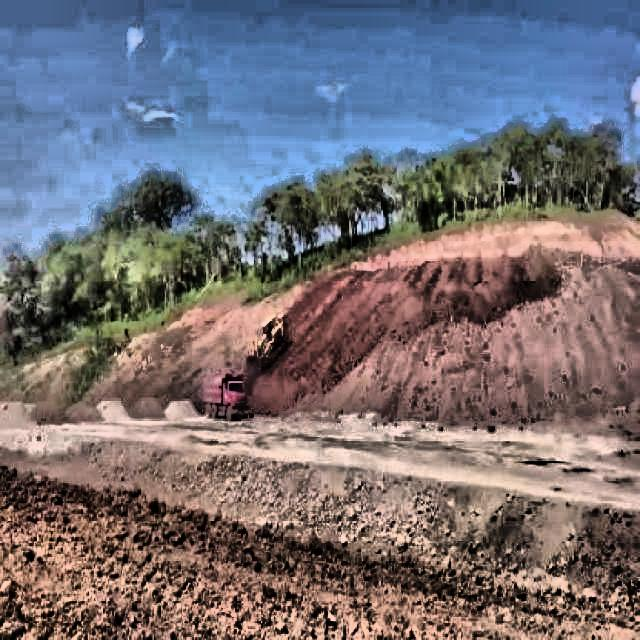dump_truck: (203, 374, 249, 418)
